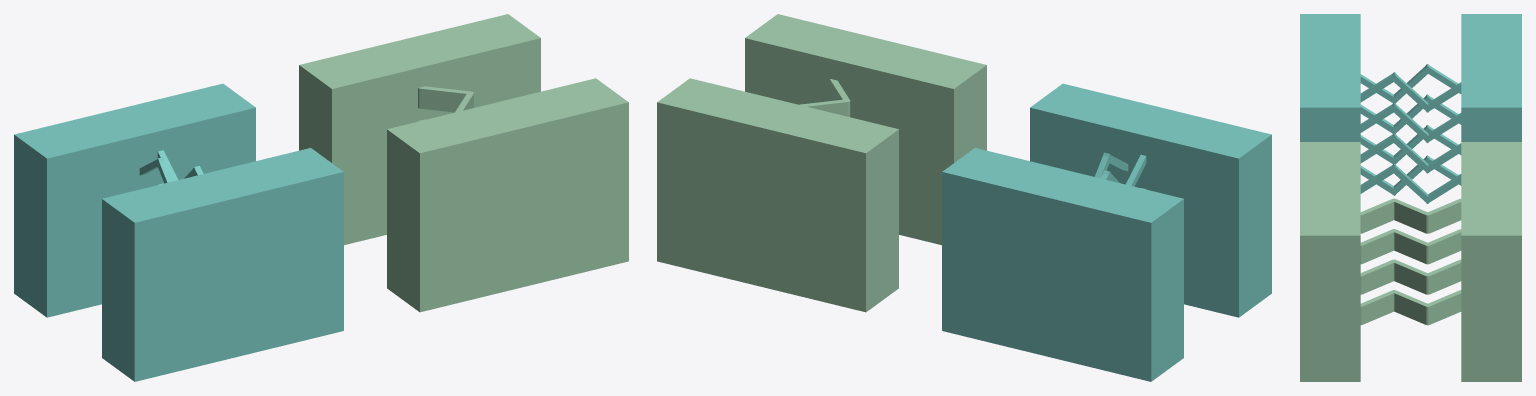
File: lattice_flexure_demo.glb
3 views of the same model, side by side, from view 1: azimuth 30°, elevation 25°; view 2: azimuth 150°, elevation 25°; view 3: azimuth 270°, elevation 25° (orthographic). The views are drawn at different scales.
Parts seen in each view (by area): view 1: distributed_x_flexure, distributed_v_accordion; view 2: distributed_x_flexure, distributed_v_accordion; view 3: distributed_v_accordion, distributed_x_flexure.
Boxes of the visible parts, x1,y1,x2,y2 form: distributed_x_flexure: (14, 83, 343, 381); distributed_v_accordion: (299, 14, 628, 312); distributed_x_flexure: (942, 83, 1271, 381); distributed_v_accordion: (657, 14, 986, 312); distributed_v_accordion: (1300, 142, 1521, 381); distributed_x_flexure: (1300, 14, 1521, 203).
Size of the model in its own units: 52 by 16 by 22.
